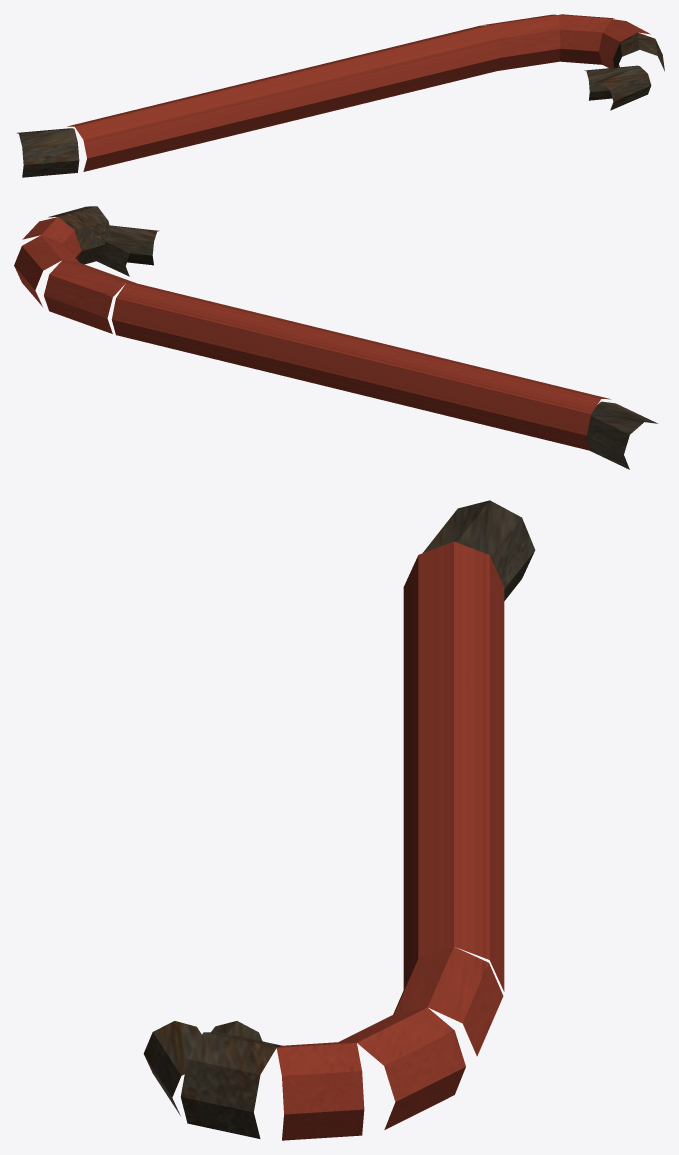
Rendered from crowbar.glb.
3 renders of one model, top to bottom at view 1: azimuth 30°, elevation 25°; view 2: azimuth 150°, elevation 25°; view 3: azimuth 270°, elevation 25°, orthographic. The views are drawn at different scales.
Parts seen in each view (by area): view 1: Forged Bar / Worn Red, Forged Bar / Bare Steel; view 2: Forged Bar / Worn Red, Forged Bar / Bare Steel; view 3: Forged Bar / Worn Red, Forged Bar / Bare Steel.
Part boxes in pixels (x1=…): Forged Bar / Worn Red: x1=67, y1=14, x2=650, y2=171; Forged Bar / Bare Steel: x1=16, y1=32, x2=664, y2=177; Forged Bar / Worn Red: x1=14, y1=217, x2=610, y2=450; Forged Bar / Bare Steel: x1=48, y1=206, x2=658, y2=469; Forged Bar / Worn Red: x1=276, y1=541, x2=504, y2=1140; Forged Bar / Bare Steel: x1=143, y1=500, x2=535, y2=1138.
Bounding box in the file's own units: 1.14 × 0.084 × 0.327.
Materials: 2 (2 with a texture image).
